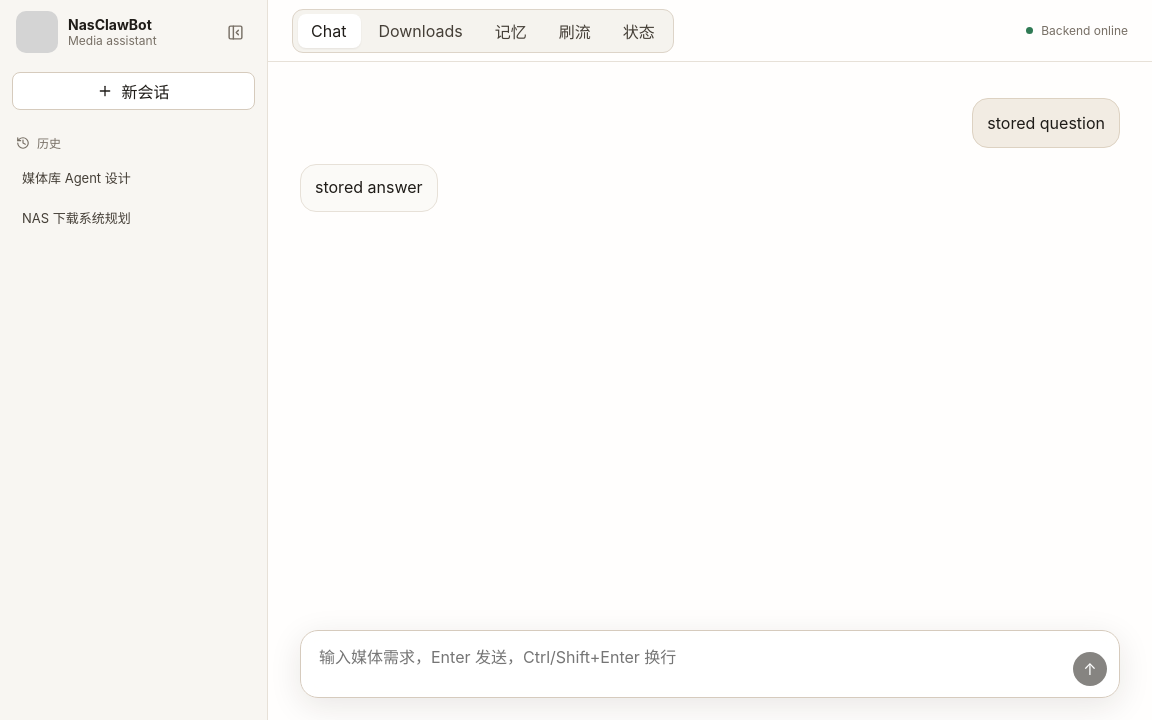
it: AppShell › clears the persisted active session when starting a new conversation
This screenshot has width=1152, height=720.
Click the button "新会话" at (134, 91), box [12,72,255,110]
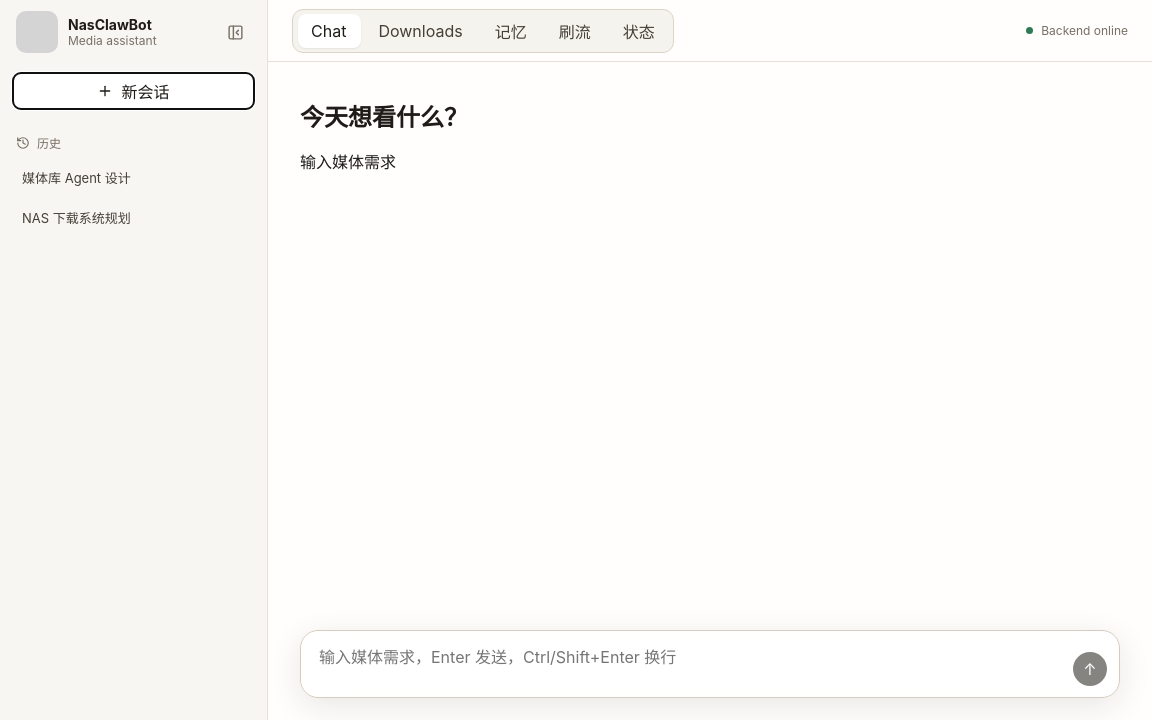
Check: the text "输入媒体需求" is shown, box [300,152,396,172]
